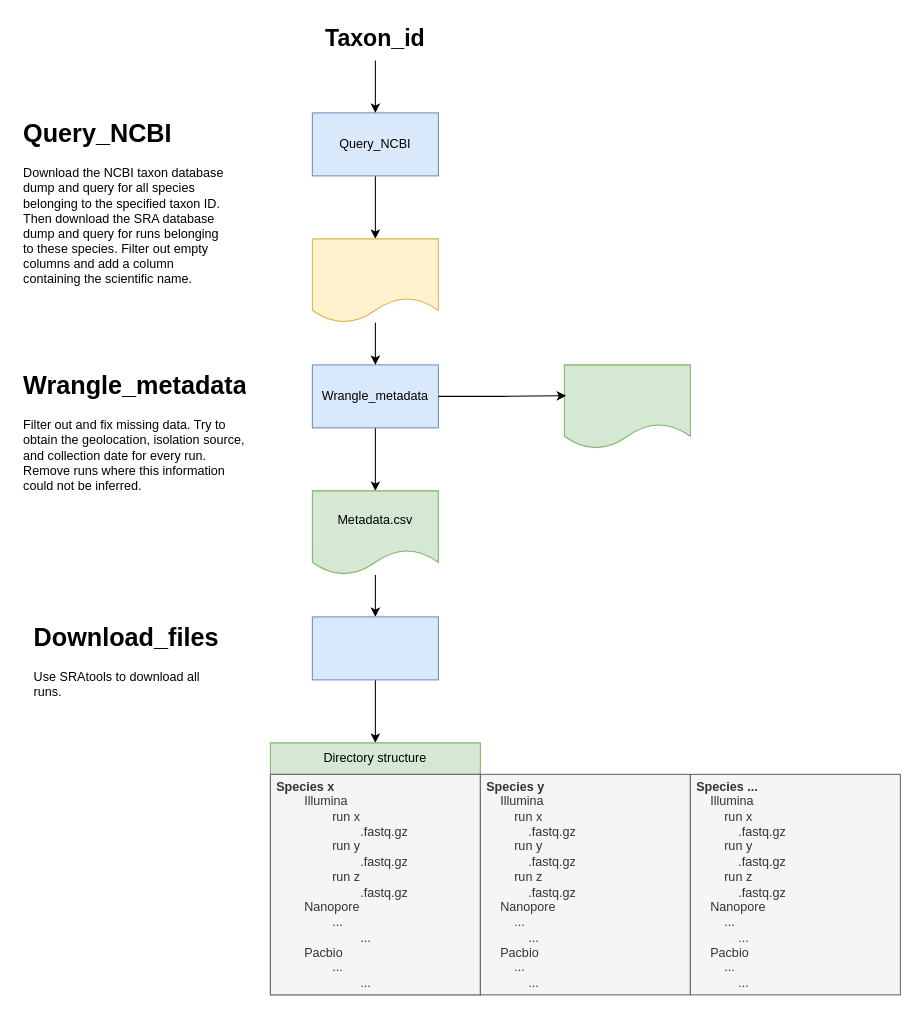
This 919x1013 diagram has some shape labels left out. The shapes that lost their labels are listed below. From the top down, each one's centre as x and y in pixels, then its label:
point 374,280: SRA.feather
point 626,406: Processed Jupyter notebook
point 374,648: Download_files
